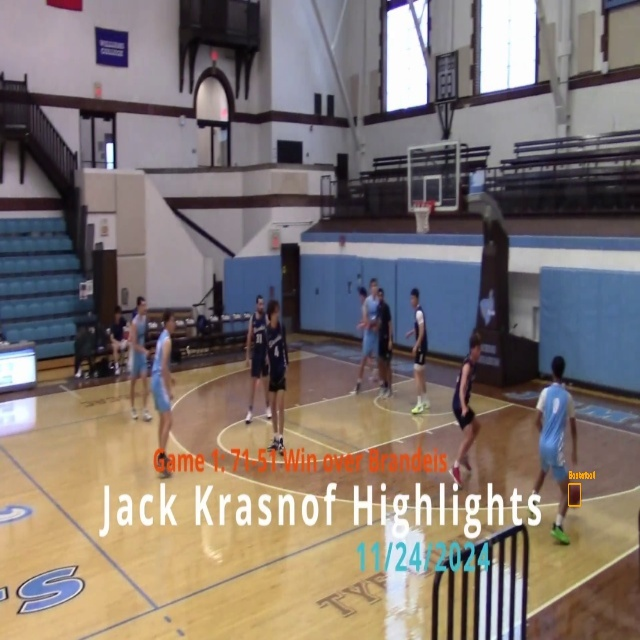Basketball: (569, 484, 581, 506)
